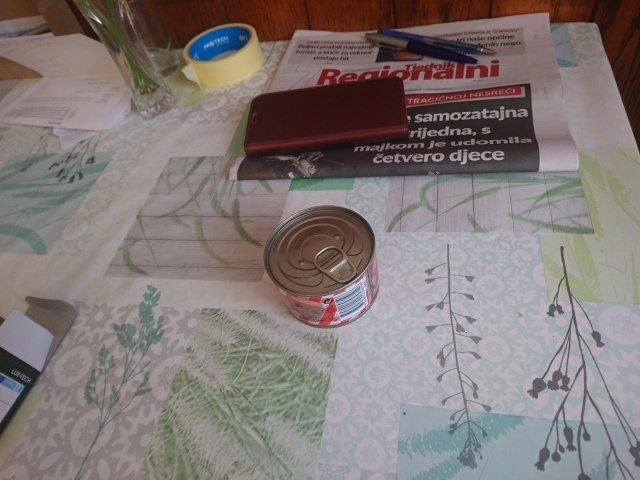Podravka Luncheon Meat 150g: (260, 202, 383, 331)
